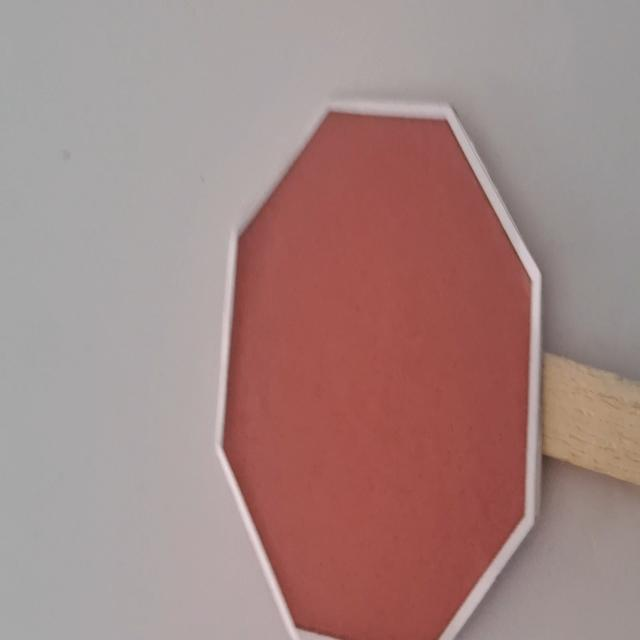Stop: (213, 93, 541, 640)
